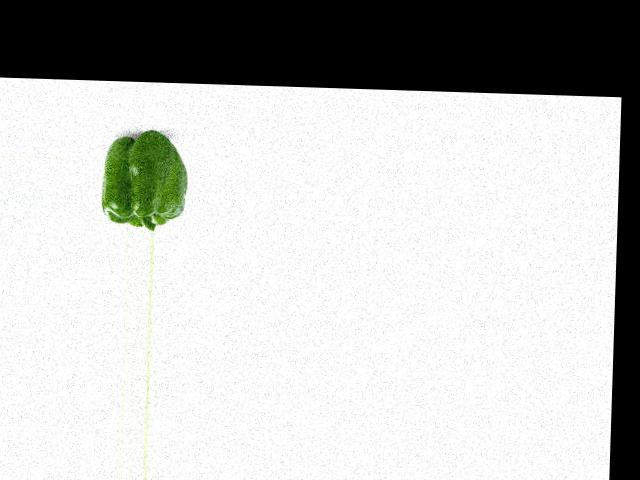bell_pepper: (99, 131, 190, 230)
